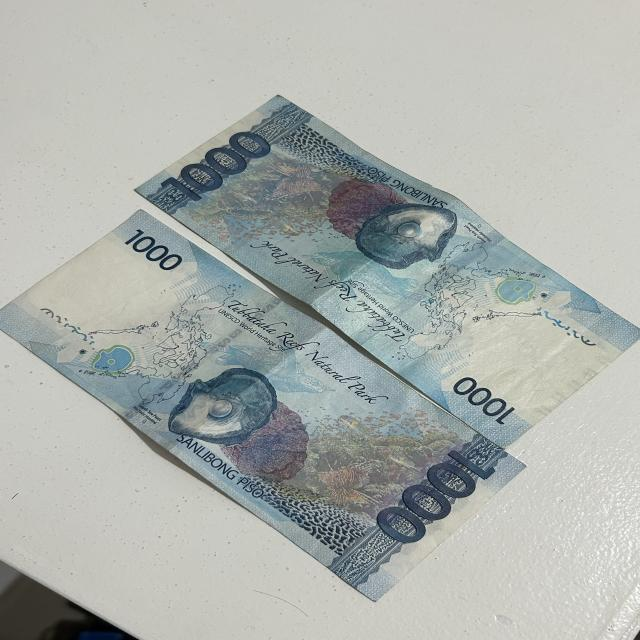1000_pearl: (339, 198, 496, 277), (169, 369, 267, 440)
1000_pearl_watermark: (88, 340, 136, 377), (488, 280, 542, 306)
